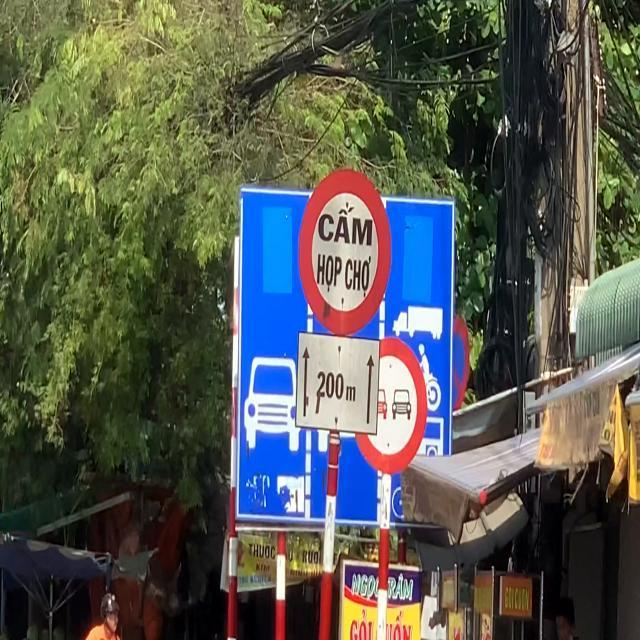125-cam-vuot: (353, 335, 428, 474)
